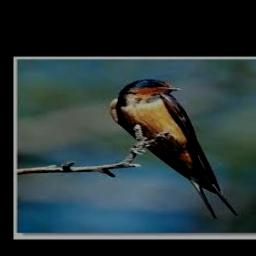Swallow: (109, 79, 238, 218)
